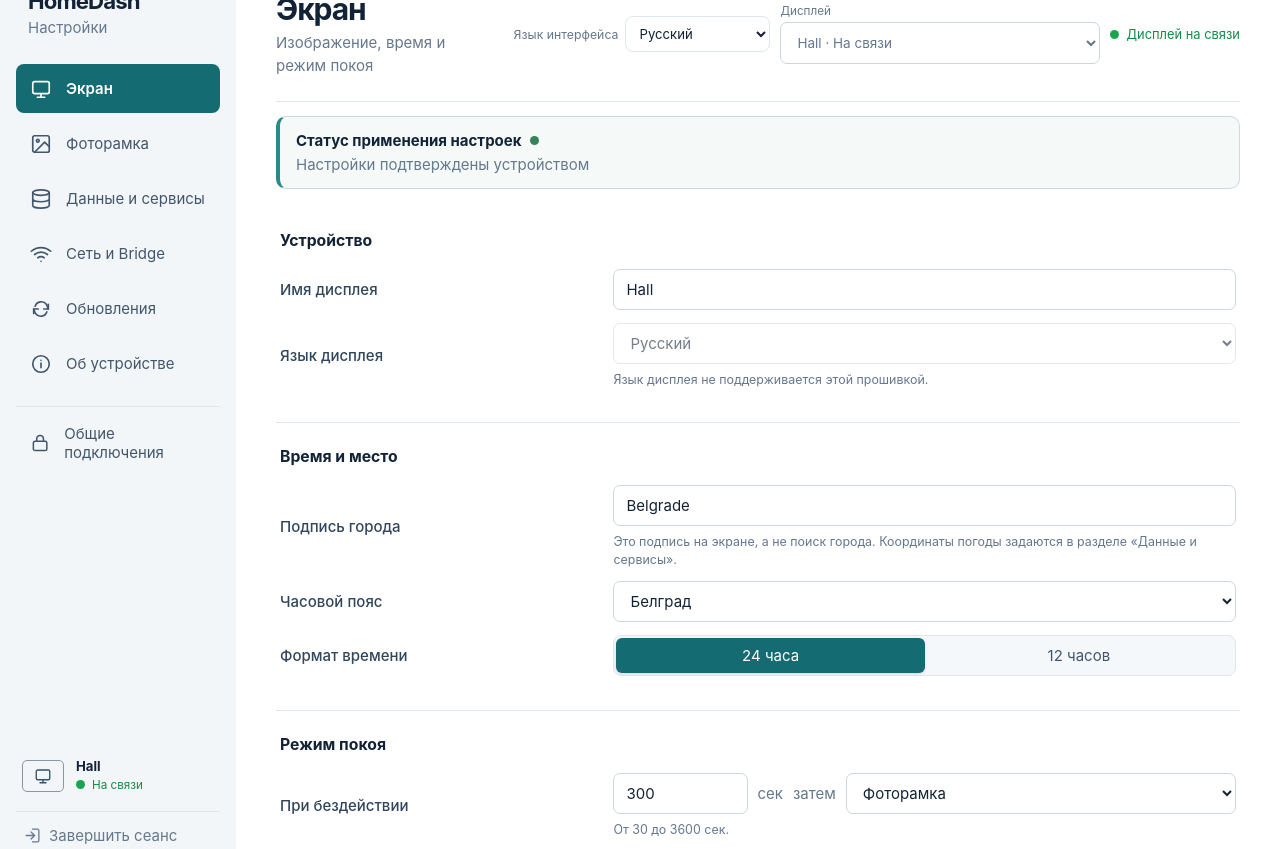
Scenario: multi-display shell › withdraws backlight confirmation immediately after a failed settings poll
This screenshot has width=1280, height=849.
Step 1. Click the button "Об устройстве" → (118, 364), box [16,339,220,388]
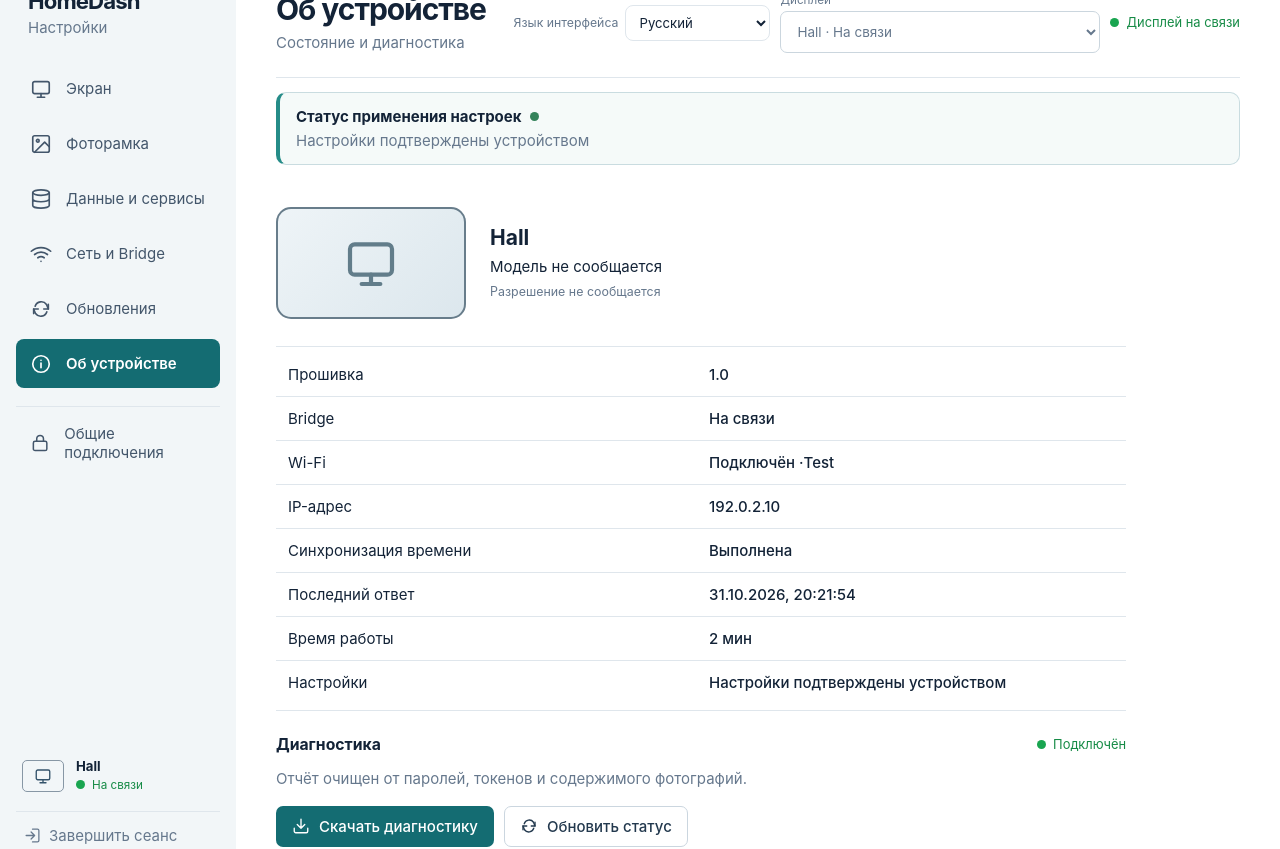
Step 2. Click the button "Обновить статус" → (596, 826), box [504,806,688,846]
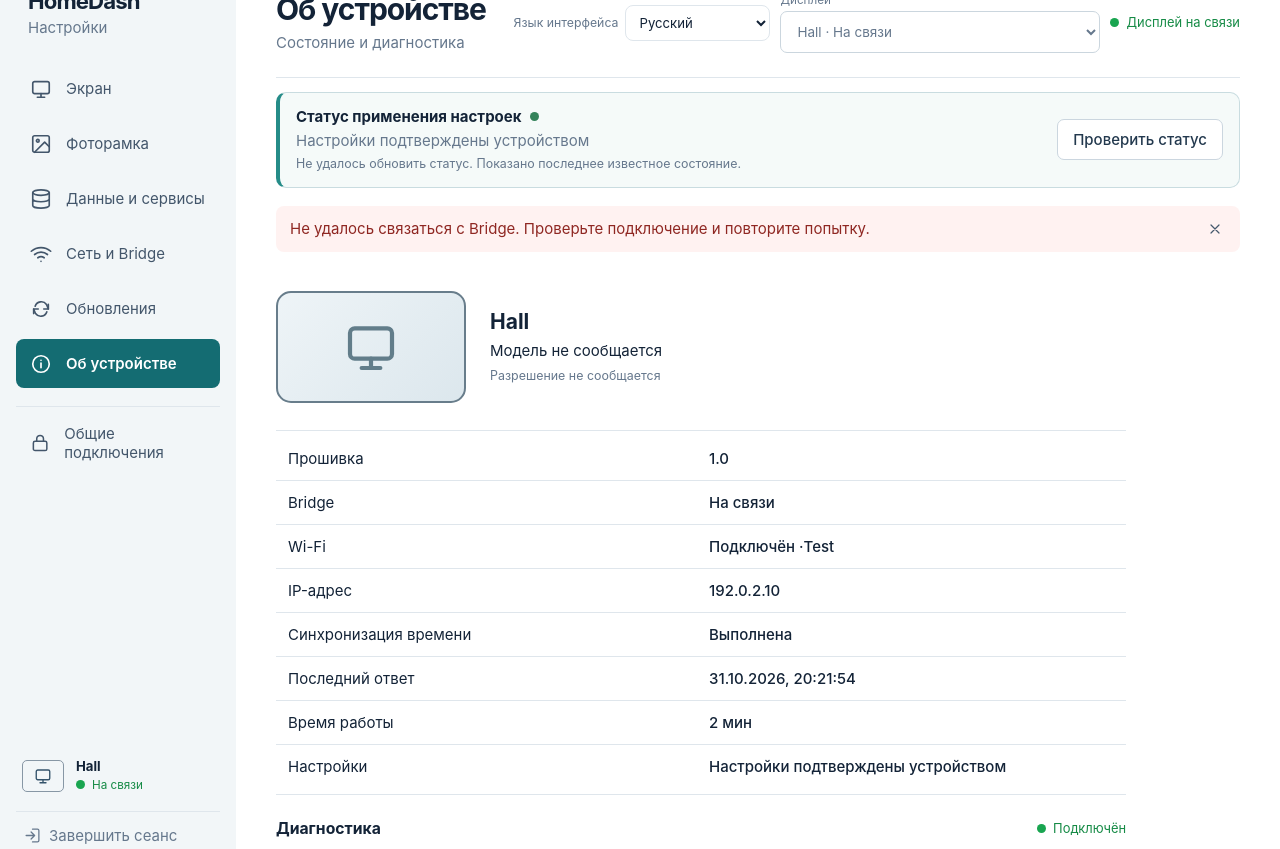
Expected: the text "Не удалось обновить статус. Показано последнее известное состояние." is shown, [296,156,741,171]
Step 3. Click the button "Экран" → (118, 88), box [16,64,220,113]
(page scrolled)
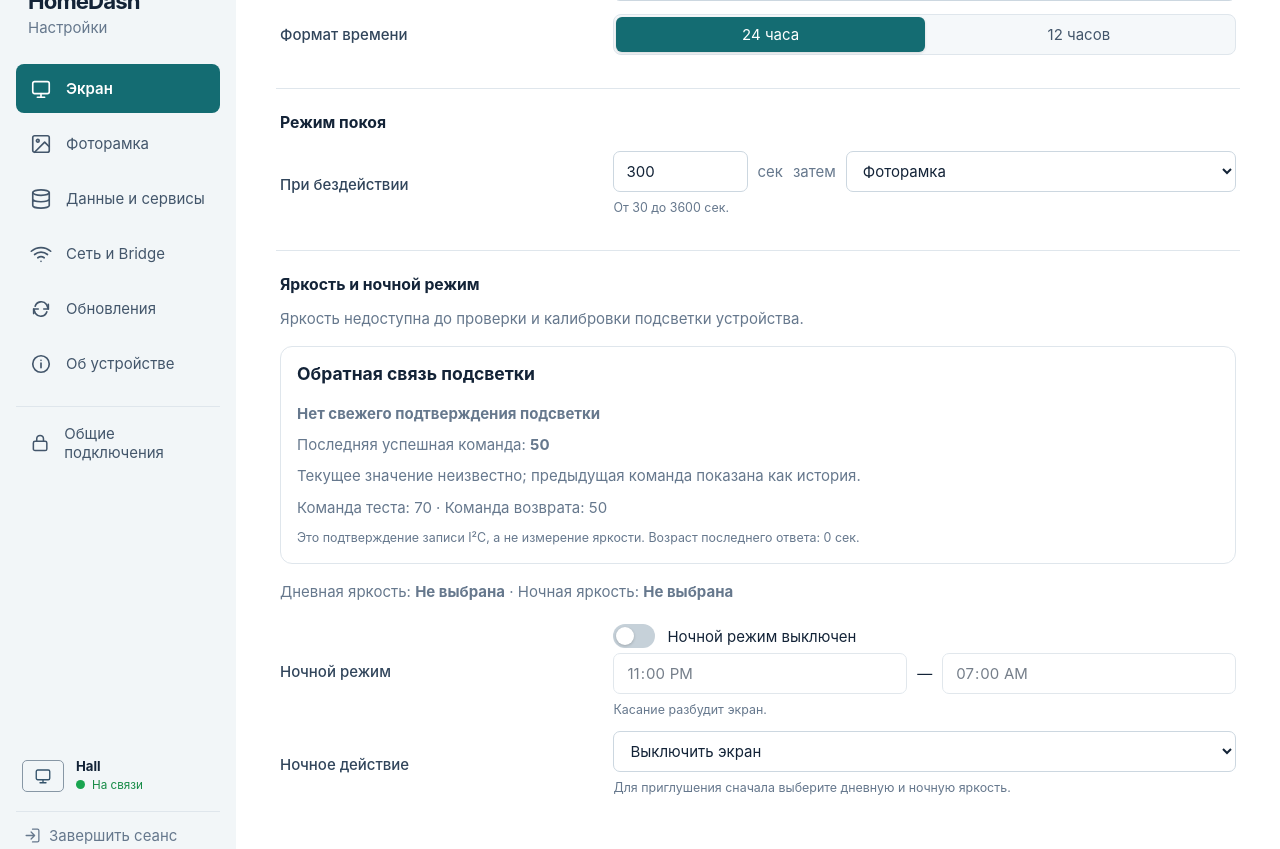
Expected: the text "Нет свежего подтверждения подсветки" is shown, [297,404,600,423]
